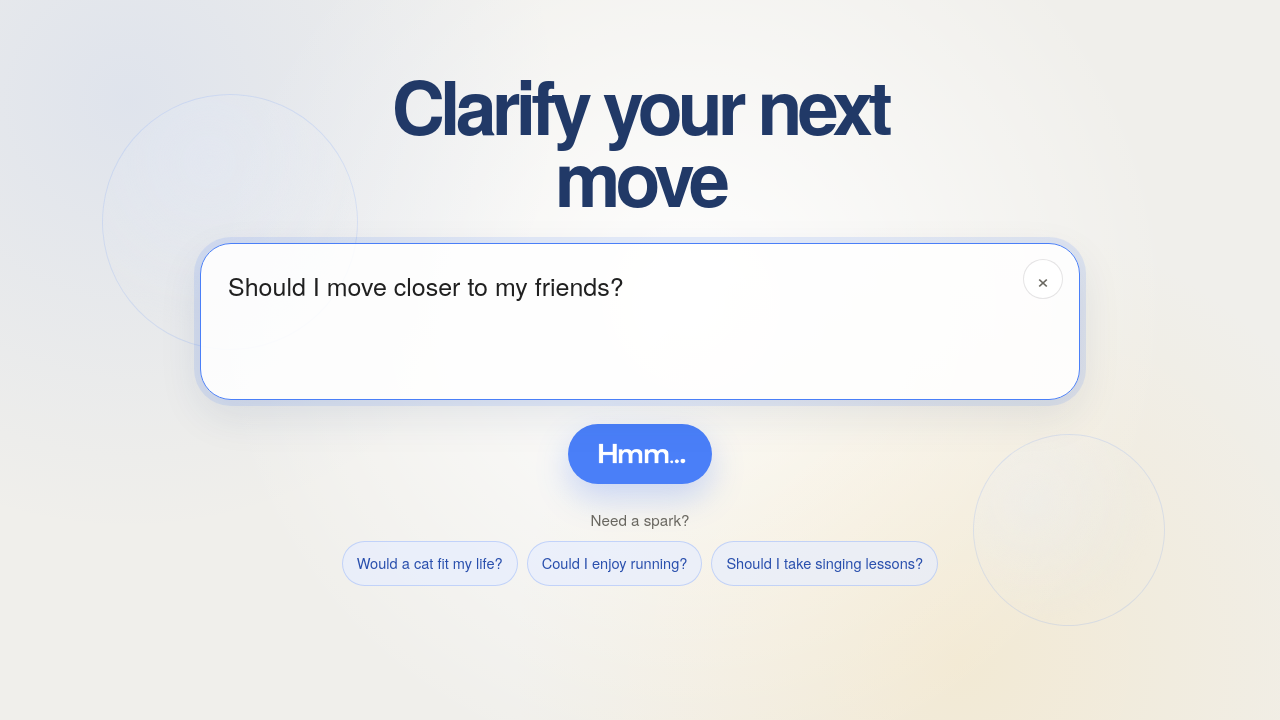
Test case: WelcomeSeed › uses a supplied thought and can clear it in place
Expected: the text box named "Your thought" holds "Should I move closer to my friends?", [200,243,1080,400]
Click the button named "Clear thought" at {"x": 1043, "y": 279}, box [1023,259,1063,299]
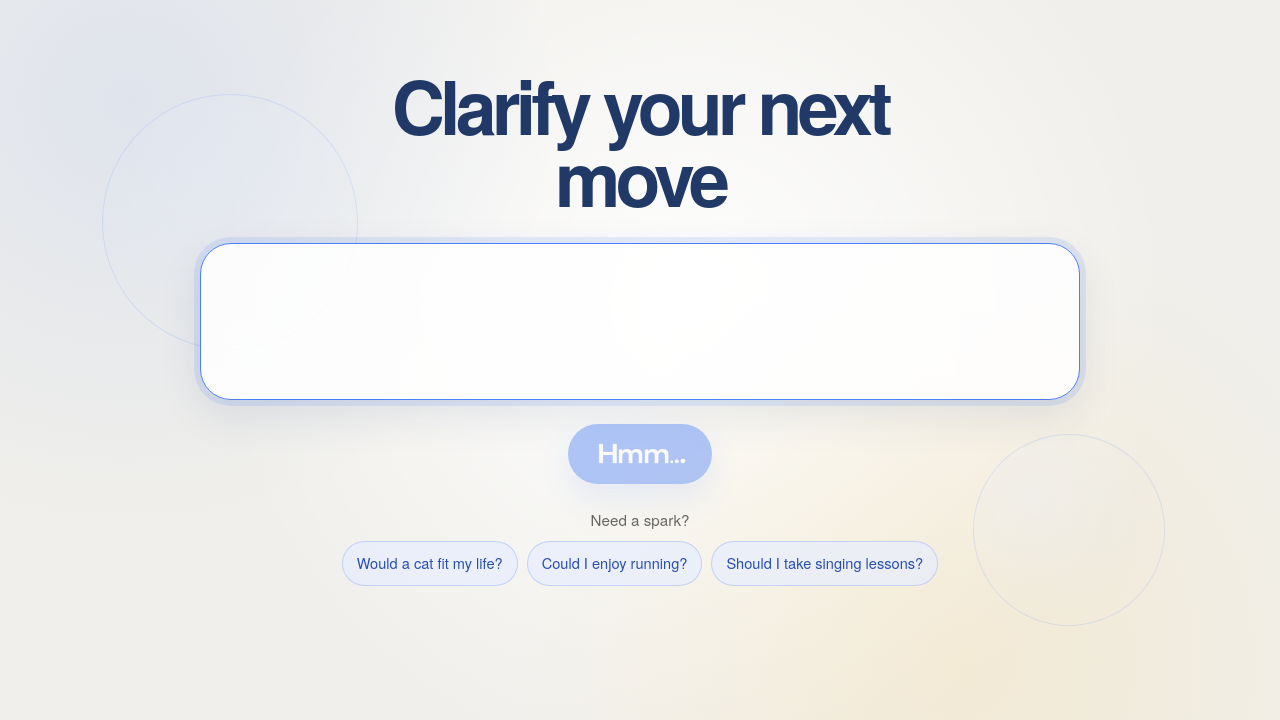
Result: the text box named "Your thought" is empty at [200,243,1080,400]
